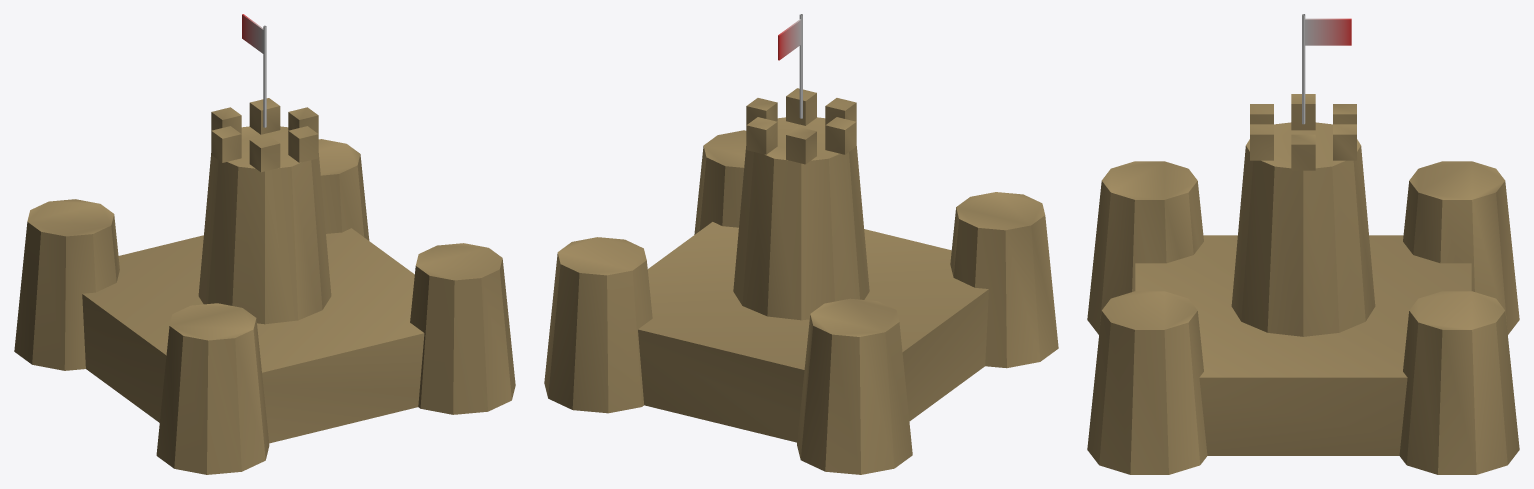
Rendered from Sandcastle.glb.
3 renders of one model, left to right at view 1: azimuth 30°, elevation 25°; view 2: azimuth 150°, elevation 25°; view 3: azimuth 270°, elevation 25°, orthographic. The views are drawn at different scales.
Parts seen in each view (by area): view 1: Castle, Flag; view 2: Castle, Flag; view 3: Castle, Flag.
Boxes of the visible parts, box(x1,y1,x2,y2) form: Castle: box(14, 98, 515, 474); Flag: box(242, 14, 266, 127); Castle: box(544, 88, 1058, 474); Flag: box(778, 14, 802, 118); Castle: box(1087, 94, 1519, 474); Flag: box(1302, 14, 1351, 124).
Bounding box in the file's own units: 0.8873 × 0.85 × 0.9.
